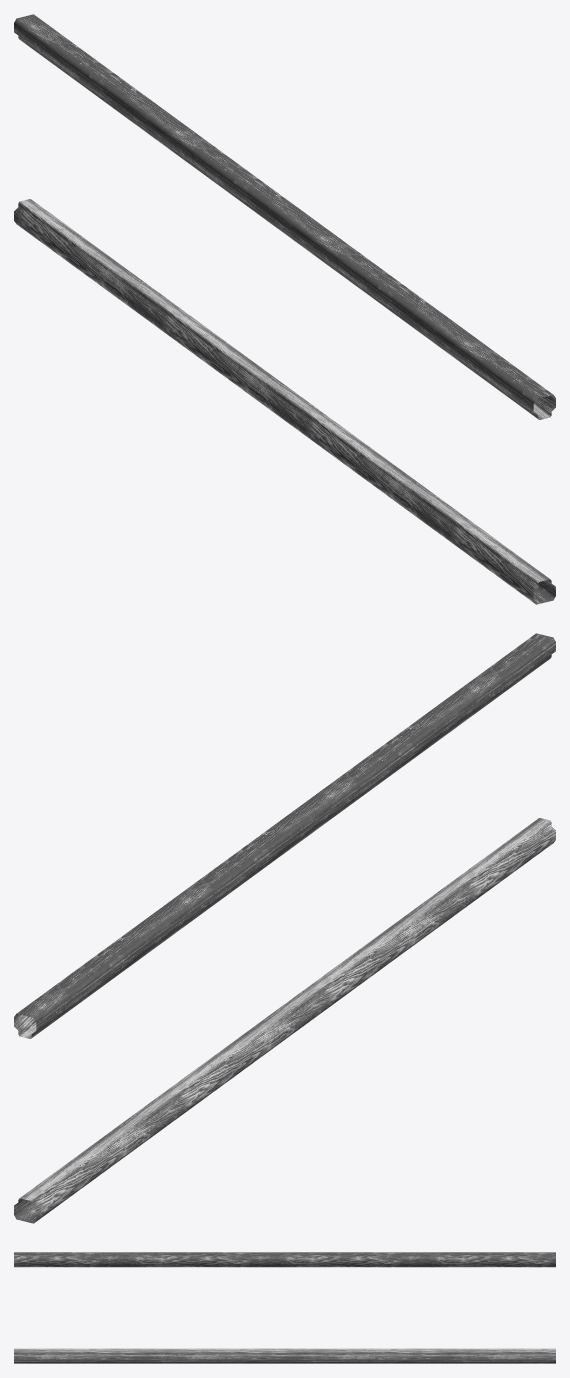
The model's file is SM_Fence_A3_Splines_39.fbx.
3 views of the same model, one above another, from view 1: azimuth 30°, elevation 25°; view 2: azimuth 150°, elevation 25°; view 3: azimuth 270°, elevation 25° (orthographic). The views are drawn at different scales.
Visible parts, largest first — view 1: SM_Fence_A3_Splines_39; view 2: SM_Fence_A3_Splines_39; view 3: SM_Fence_A3_Splines_39.
Part boxes in pixels (left/top/right/bottom): SM_Fence_A3_Splines_39: left=14, top=14, right=555, bottom=604; SM_Fence_A3_Splines_39: left=14, top=633, right=555, bottom=1223; SM_Fence_A3_Splines_39: left=14, top=1252, right=555, bottom=1363.
Size of the model in its own units: 6.56 by 266 by 58.09.
Materials: 1 (1 with a texture image).
